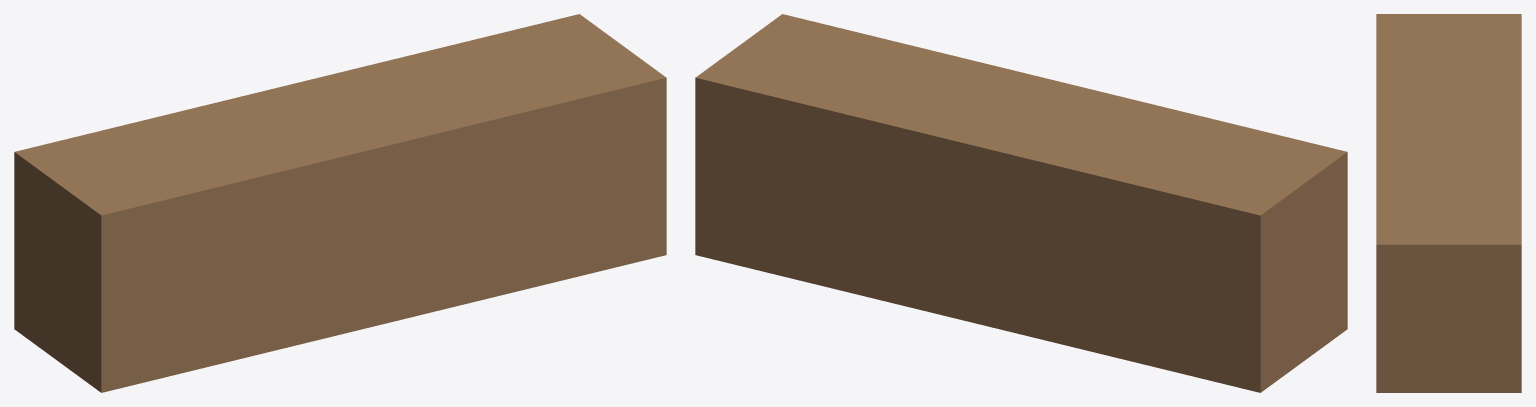
File: casa_horta.glb
3 views of the same model, side by side, from view 1: azimuth 30°, elevation 25°; view 2: azimuth 150°, elevation 25°; view 3: azimuth 270°, elevation 25° (orthographic). The views are drawn at different scales.
Visible parts, largest first — view 1: Banco; view 2: Banco; view 3: Banco.
Boxes of the visible parts, x1,y1,x2,y2 form: Banco: [14, 14, 666, 392]; Banco: [695, 14, 1347, 392]; Banco: [1376, 14, 1521, 392].
Size of what is drawn, in the model's own units: 1.5 by 0.45 by 0.4.
